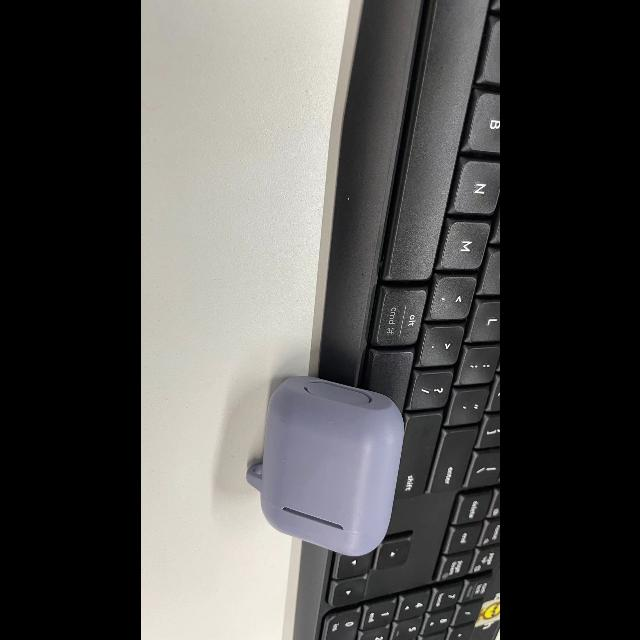airpods: (242, 375, 405, 559)
